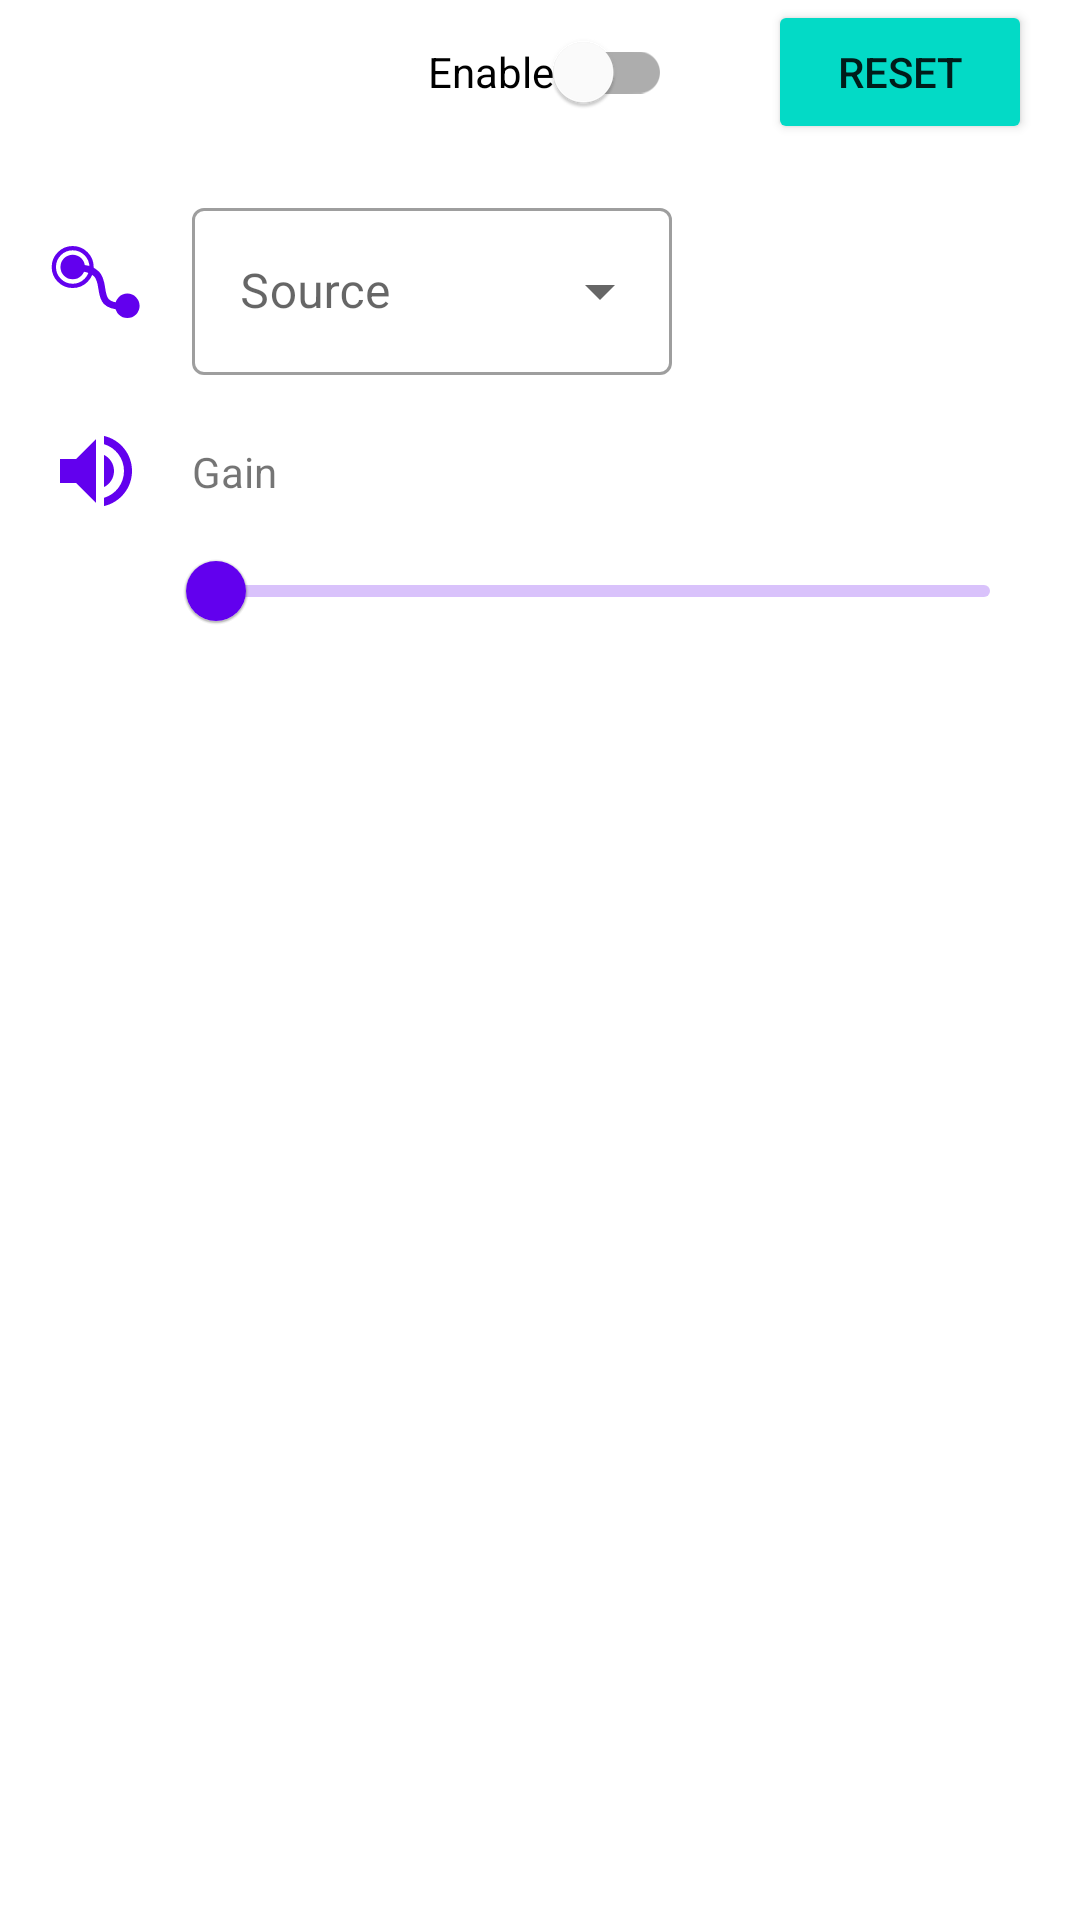

Screen size 1080 x 1920. Icon name, then its center in pixels as point (x, y):
volume: point (96, 471)
